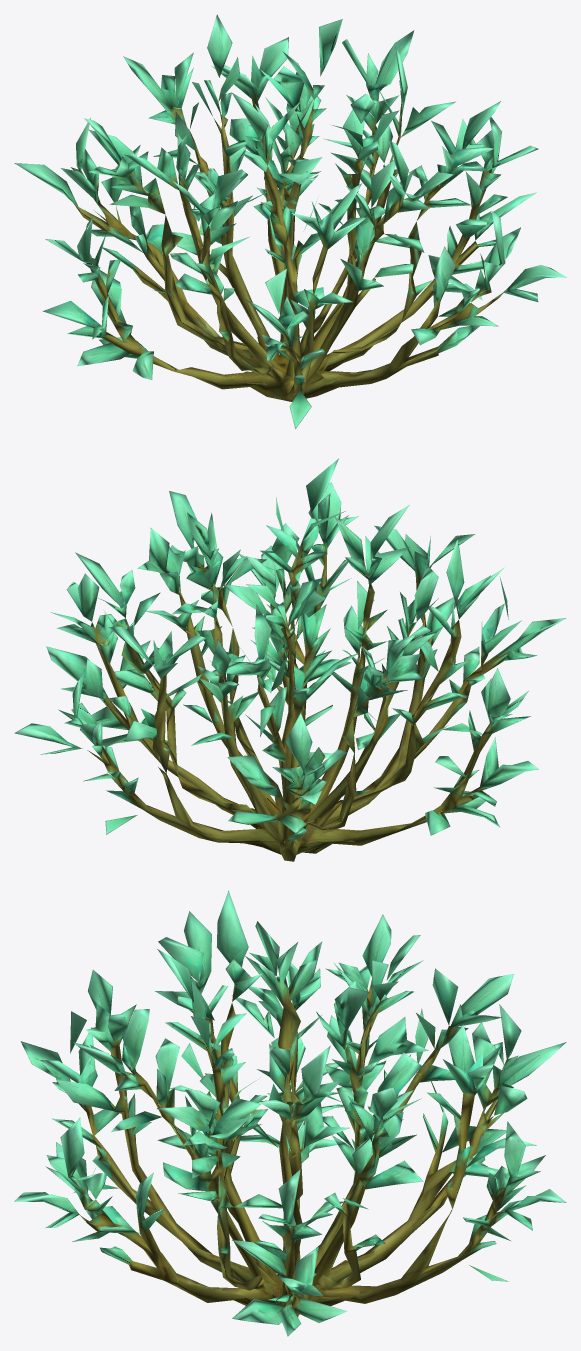
The picture shows the model from 3 angles, top to bottom: view 1: azimuth 30°, elevation 25°; view 2: azimuth 150°, elevation 25°; view 3: azimuth 270°, elevation 25°; orthographic projection. The views are drawn at different scales.
Parts seen in each view (by area): view 1: Mesh_0; view 2: Mesh_0; view 3: Mesh_0.
Part boxes in pixels (x1,y1,x2,y2): Mesh_0: (14,14,566,428); Mesh_0: (14,458,566,861); Mesh_0: (14,890,566,1336).
Size of the model in its own units: 1.91 by 1.27 by 1.71.
Materials: 1 (1 with a texture image).
